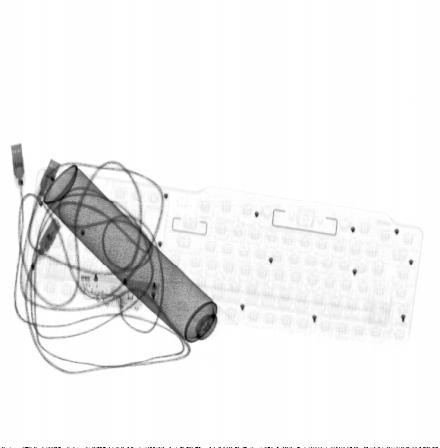Sprayer: (42, 162, 239, 363)
